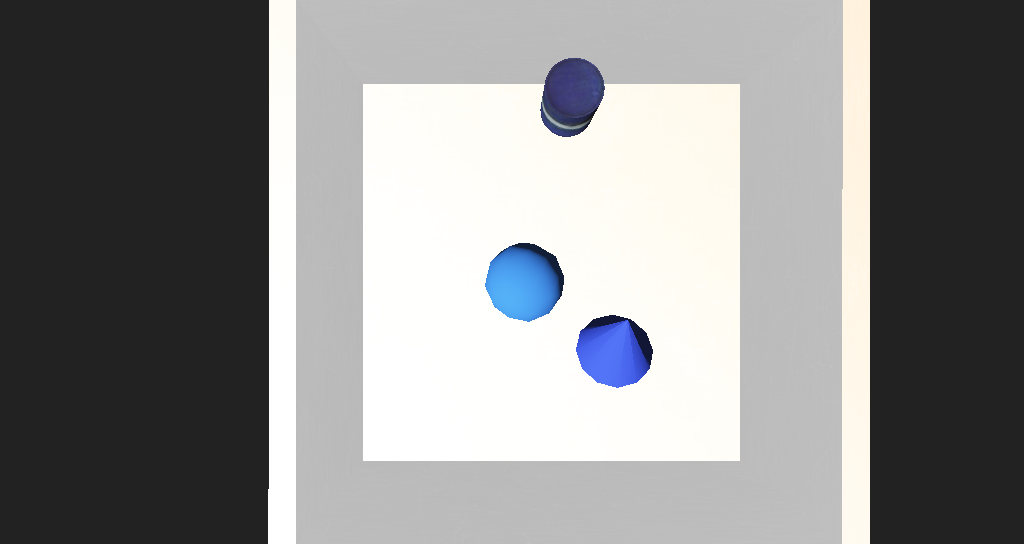cone: (502, 150, 549, 193)
cylinder: (525, 272, 593, 339)
sphere: (455, 248, 515, 296)
